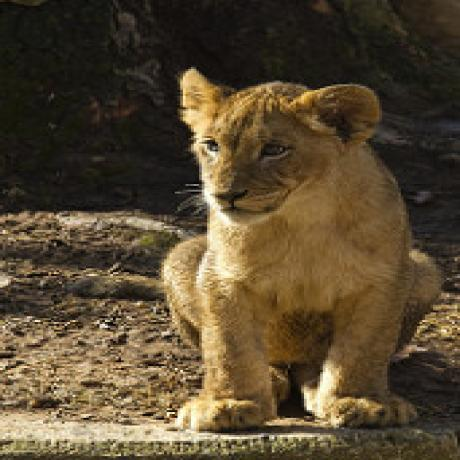Lion: (167, 67, 442, 430)
